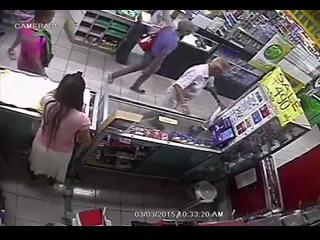Normal: (27, 71, 94, 191), (106, 20, 198, 94), (161, 56, 230, 116), (7, 10, 56, 76)
